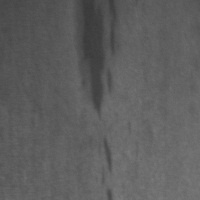inclusion: (76, 1, 118, 121), (95, 134, 119, 199)
